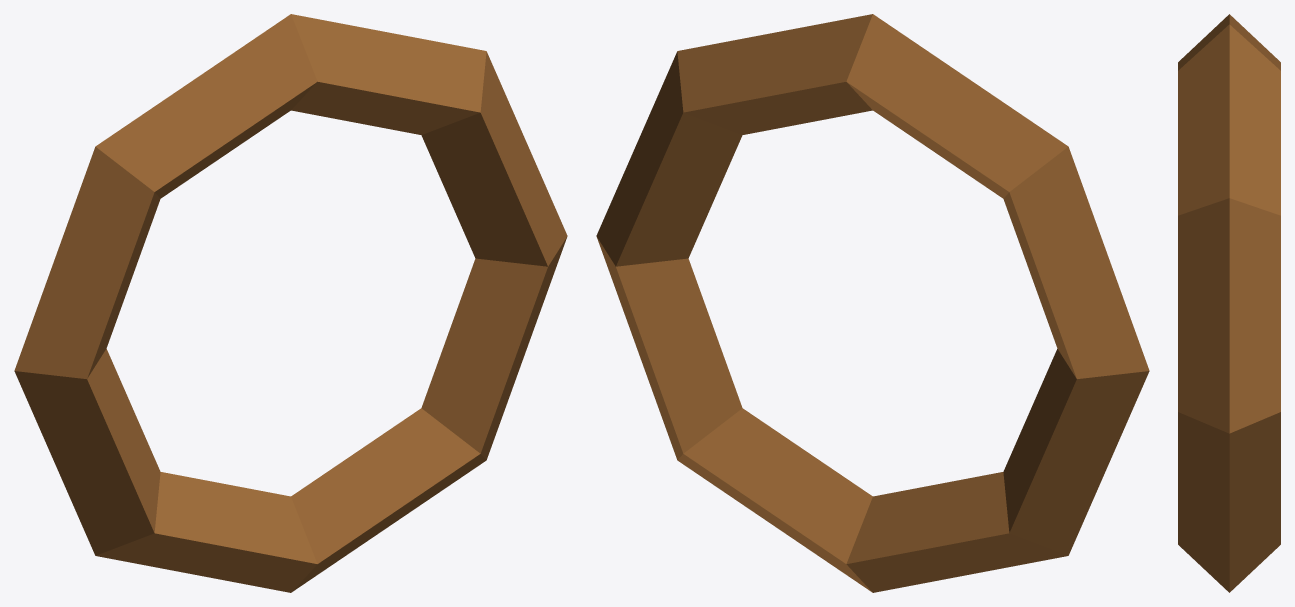
File: donut.dae
3 views of the same model, side by side, from view 1: azimuth 30°, elevation 25°; view 2: azimuth 150°, elevation 25°; view 3: azimuth 270°, elevation 25° (orthographic). The views are drawn at different scales.
Parts seen in each view (by area): view 1: donutNode; view 2: donutNode; view 3: donutNode.
Boxes of the visible parts, x1,y1,x2,y2 form: donutNode: (14, 14, 567, 592); donutNode: (596, 14, 1149, 592); donutNode: (1178, 14, 1280, 592).
Size of the model in its own units: 2.4 by 2.4 by 0.4.
